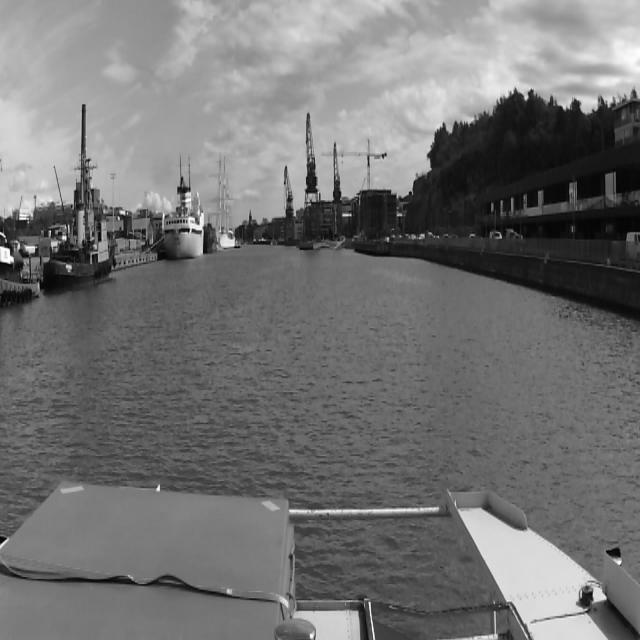ship: (38, 135, 116, 293), (156, 182, 203, 259), (208, 150, 238, 262), (0, 227, 39, 300)
